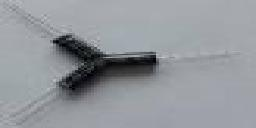Electrolytic-Capacitor: (18, 5, 107, 56), (100, 48, 248, 67), (52, 60, 115, 94)
